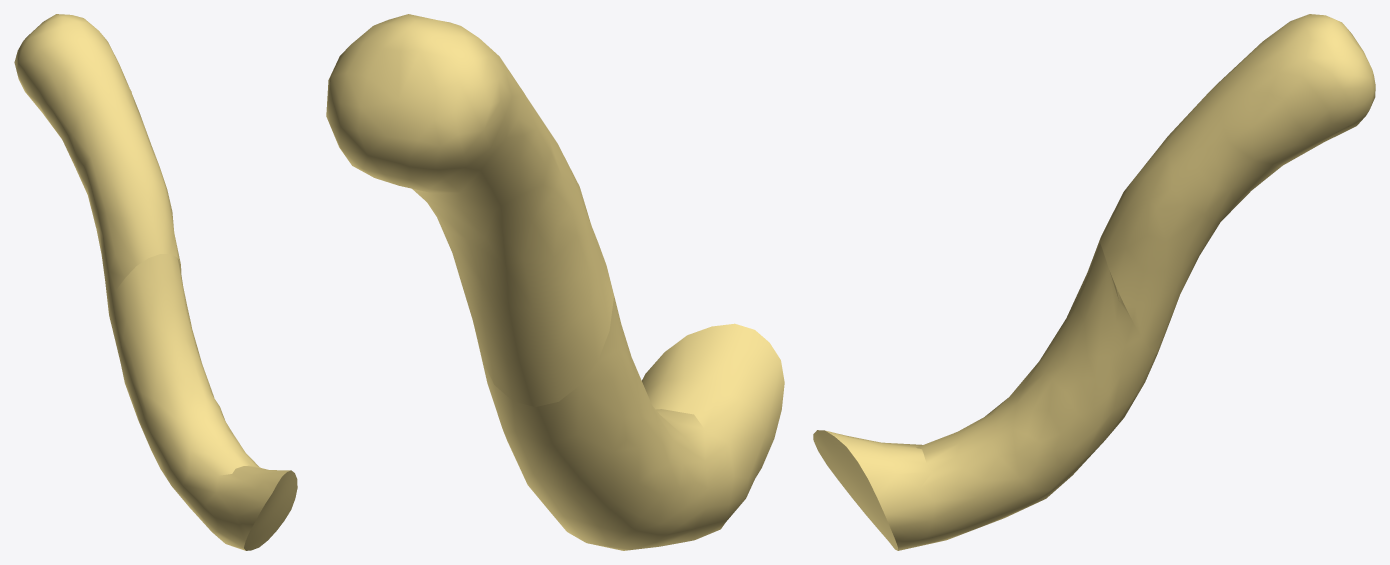
The model's file is fma73609_mm2673.glb.
3 renders of one model, left to right at view 1: azimuth 30°, elevation 25°; view 2: azimuth 150°, elevation 25°; view 3: azimuth 270°, elevation 25°, orthographic. The views are drawn at different scales.
Parts seen in each view (by area): view 1: FMA73609_MM2673; view 2: FMA73609_MM2673; view 3: FMA73609_MM2673.
Part boxes in pixels (x1=…): FMA73609_MM2673: x1=14, y1=14, x2=297, y2=550; FMA73609_MM2673: x1=326, y1=14, x2=784, y2=550; FMA73609_MM2673: x1=813, y1=14, x2=1375, y2=550.
Bounding box in the file's own units: 0.00287 × 0.0112 × 0.0111.
